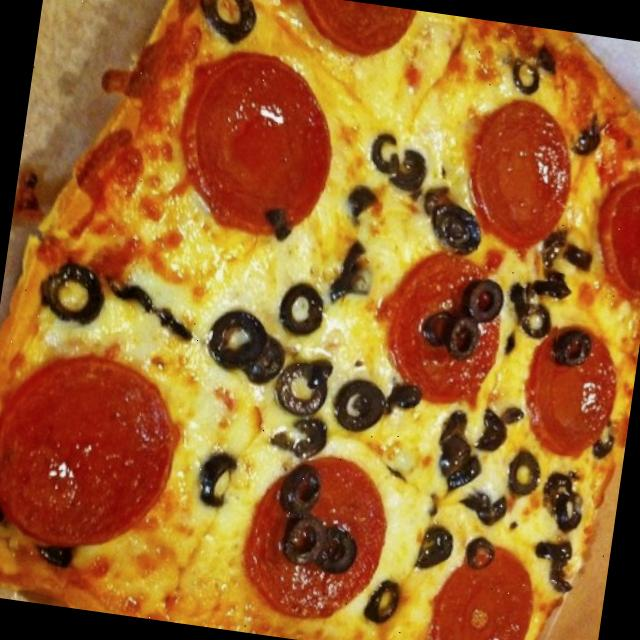Olive: (260, 332, 401, 482), (422, 396, 546, 533), (266, 459, 370, 577), (530, 467, 592, 594), (503, 246, 576, 348), (406, 180, 496, 262), (206, 304, 292, 389), (351, 128, 436, 195), (494, 30, 570, 104), (403, 509, 468, 586), (46, 252, 106, 332), (323, 239, 379, 307), (558, 102, 608, 172), (360, 568, 411, 626), (280, 282, 326, 343), (198, 0, 268, 38), (458, 526, 506, 577), (551, 318, 599, 367), (201, 454, 239, 514)
pepperoni: (158, 34, 350, 248), (0, 343, 187, 562), (226, 434, 397, 634), (364, 237, 514, 418), (455, 99, 589, 254), (512, 316, 632, 469), (412, 532, 546, 640), (280, 0, 424, 74), (582, 148, 640, 317)
pizza: (0, 0, 640, 640)
